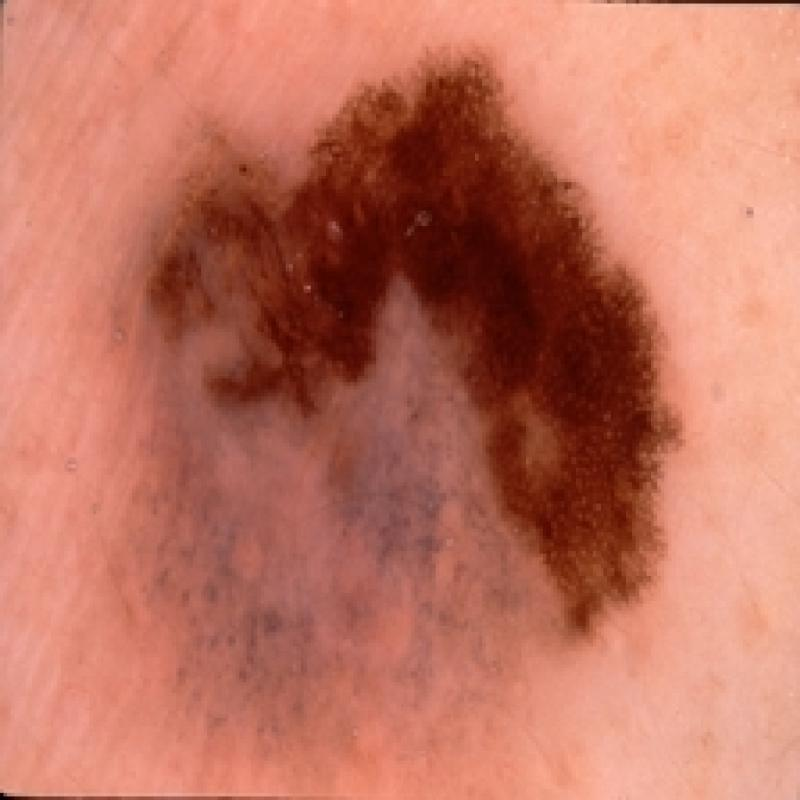malignant: (130, 41, 697, 744)
